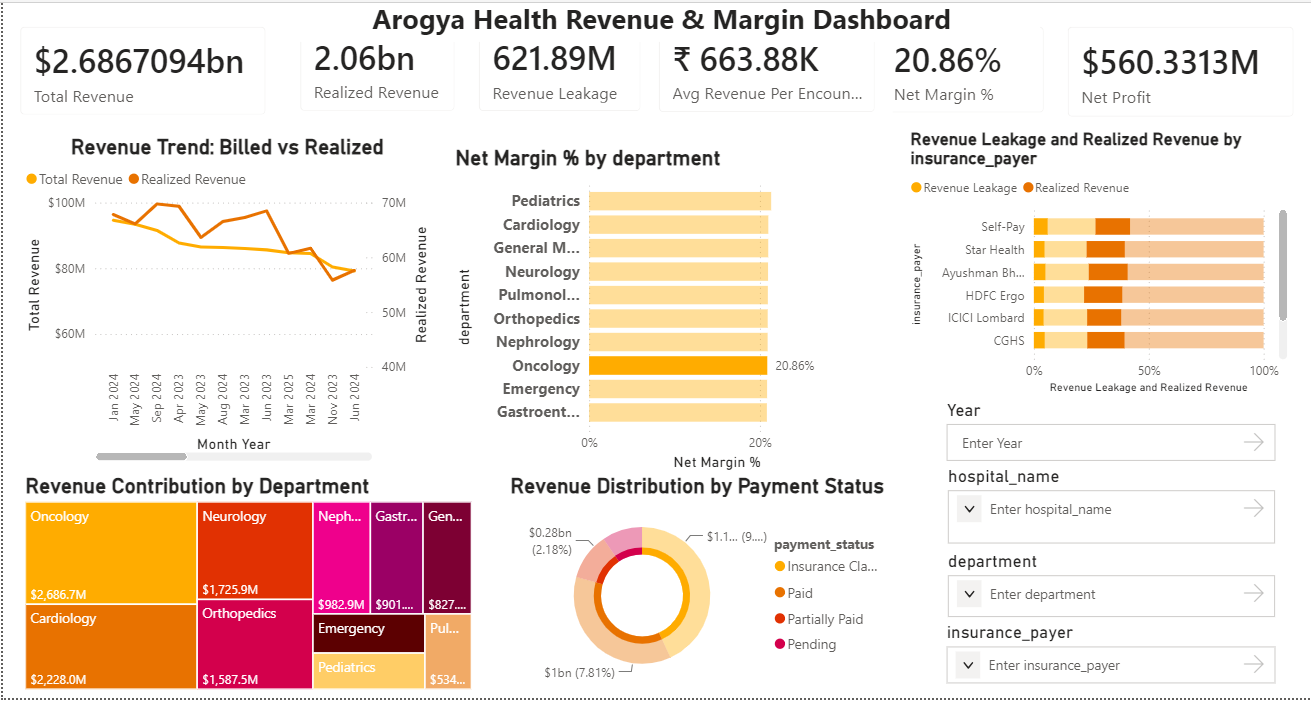

What the dashboard file says about the page in this screenshot:
{"tool":"powerbi","page":{"name":"Page 1","canvas":[1280,720],"ordinal":0},"visuals":[{"type":"cardVisual","fields":{"Data":["Date Table.Total Revenue"]},"box":[0,46.7,274.4,120.8],"z":0},{"type":"cardVisual","fields":{"Data":["Date Table.Realized Revenue"]},"box":[274.4,42.5,185.2,120.8],"z":1000},{"type":"cardVisual","fields":{"Data":["Date Table.Revenue Leakage"]},"box":[448.7,43.9,192.1,119.4],"z":2000},{"type":"cardVisual","fields":{"Data":["Date Table.Net Profit"]},"box":[1025,46.7,255.2,122.1],"z":3000},{"type":"cardVisual","fields":{"Data":["Date Table.Net Margin %"]},"box":[841.2,46.7,194.9,118],"z":4000},{"type":"cardVisual","fields":{"Data":["Date Table.Avg Revenue Per Encounter"]},"box":[624.4,43.9,245.6,120.8],"z":5000},{"type":"lineChart","title":"Revenue Trend: Billed vs Realized","fields":{"Category":["Date Table.Month Year"],"Y":["Date Table.Total Revenue"],"Y2":["Date Table.Realized Revenue"]},"box":[17.1,168.8,404.8,324.1],"z":6000},{"type":"treemap","title":"Revenue Contribution by Department","fields":{"Group":["Encounters.department"],"Values":["Date Table.Total Revenue"]},"box":[17.1,500.1,446.3,216.4],"z":7000},{"type":"clusteredBarChart","fields":{"Category":["Encounters.department"],"Y":["Date Table.Net Margin %"]},"box":[437.7,179.8,403.4,322.5],"z":8000},{"type":"hundredPercentStackedBarChart","fields":{"Category":["Encounters.insurance_payer"],"Y":["Date Table.Revenue Leakage","Date Table.Realized Revenue"]},"box":[882.8,162.2,378.5,265],"z":9000},{"type":"donutChart","title":"Revenue Distribution by Payment Status","fields":{"Category":["Encounters.payment_status"],"Y":["Date Table.Total Revenue"]},"box":[492.1,500.2,378.5,216.3],"z":10000},{"type":"textSlicer","fields":{"Values":["Date Table.Year"]},"box":[918.3,428,331.4,64.8],"z":11000},{"type":"textSlicer","fields":{"Values":["Hospitals.hospital_name"]},"box":[919.6,492.8,330.2,80.7],"z":12000},{"type":"textSlicer","fields":{"Values":["Encounters.department"]},"box":[919.6,576,330.2,69.7],"z":12001},{"type":"textSlicer","fields":{"Values":["Encounters.insurance_payer"]},"box":[918.3,645.7,331.4,62.4],"z":12002},{"type":"textbox","box":[273.9,31.8,741,46.5],"z":12003}]}

Visuals, with their boxes in screenshot pixels (x1, y1, x2, y2):
cardVisual - Date Table.Total Revenue: x1=72 y1=26 x2=347 y2=148
cardVisual - Date Table.Realized Revenue: x1=347 y1=22 x2=533 y2=143
cardVisual - Date Table.Revenue Leakage: x1=522 y1=24 x2=715 y2=143
cardVisual - Date Table.Net Profit: x1=1100 y1=26 x2=1310 y2=149
cardVisual - Date Table.Net Margin %: x1=916 y1=26 x2=1111 y2=145
cardVisual - Date Table.Avg Revenue Per Encounter: x1=698 y1=24 x2=945 y2=145
"Revenue Trend: Billed vs Realized" lineChart: x1=89 y1=149 x2=495 y2=474
"Revenue Contribution by Department" treemap: x1=89 y1=481 x2=537 y2=699
clusteredBarChart - Encounters.department x Date Table.Net Margin %: x1=511 y1=160 x2=916 y2=484
hundredPercentStackedBarChart - Encounters.insurance_payer x Date Table.Revenue Leakage: x1=958 y1=142 x2=1310 y2=408
"Revenue Distribution by Payment Status" donutChart: x1=566 y1=481 x2=945 y2=699
textSlicer - Date Table.Year: x1=993 y1=409 x2=1310 y2=474
textSlicer - Hospitals.hospital_name: x1=995 y1=474 x2=1310 y2=555
textSlicer - Encounters.department: x1=995 y1=558 x2=1310 y2=628
textSlicer - Encounters.insurance_payer: x1=993 y1=628 x2=1310 y2=690
textbox: x1=347 y1=11 x2=1090 y2=58
